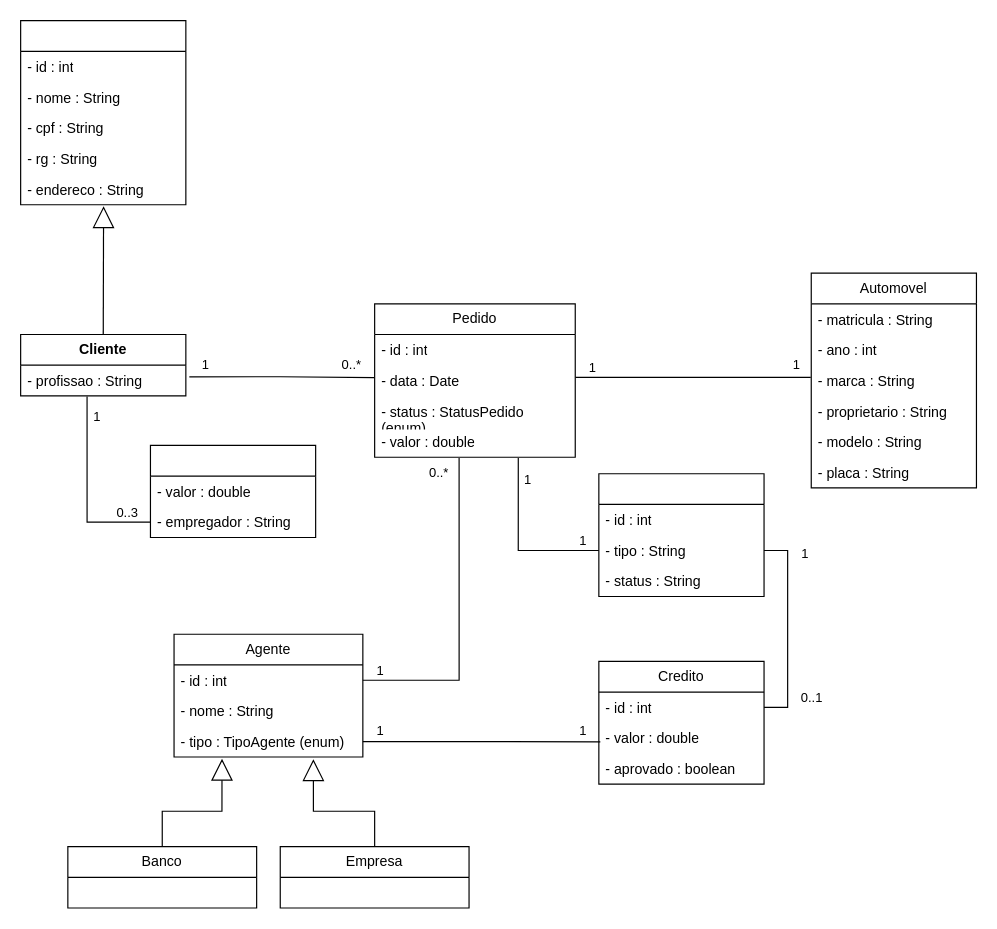
Image size: 997x929. Some labels were removed from this diagram. Each missing label, with the box of its shape:
Contrato: (598, 473, 764, 596)
Rendimento: (149, 444, 316, 537)
Usuario: (19, 19, 186, 205)
